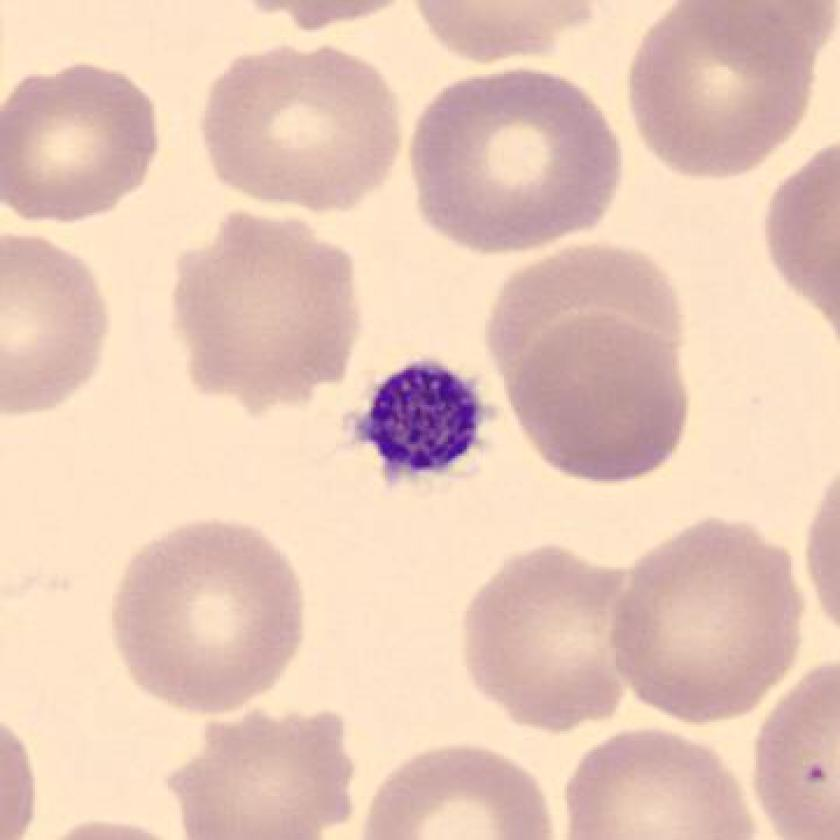platelets: (349, 353, 500, 492)
